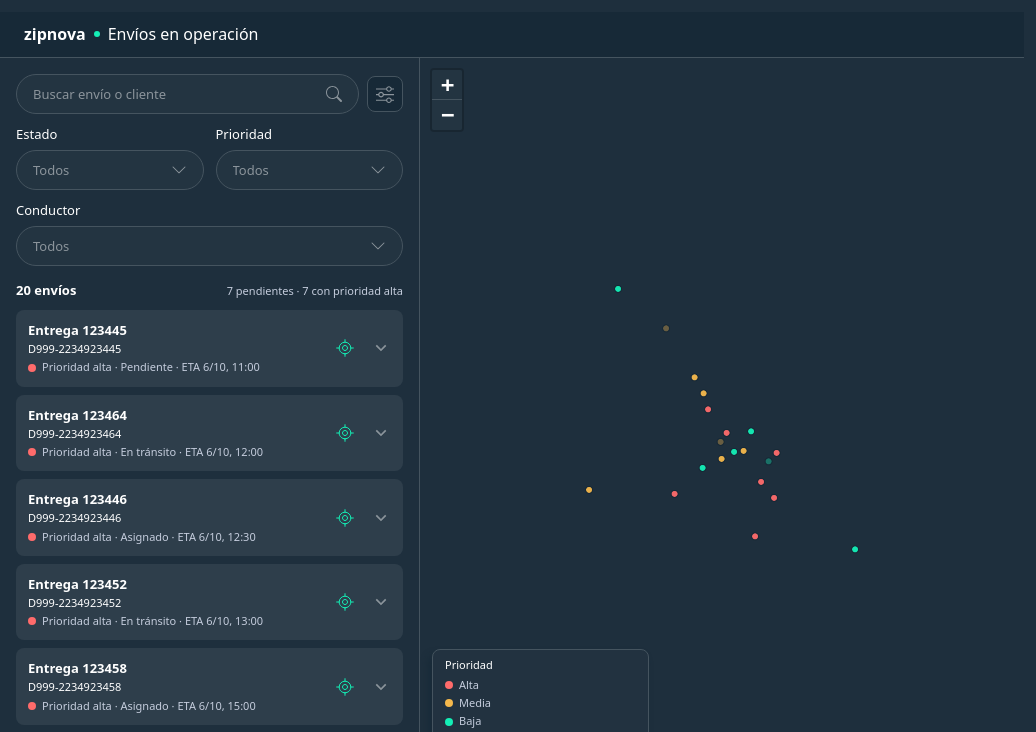
Test: App › filters by delivery date from the date picker
Click the button named "Más filtros".
click(385, 94)  # box [367,76,403,112]
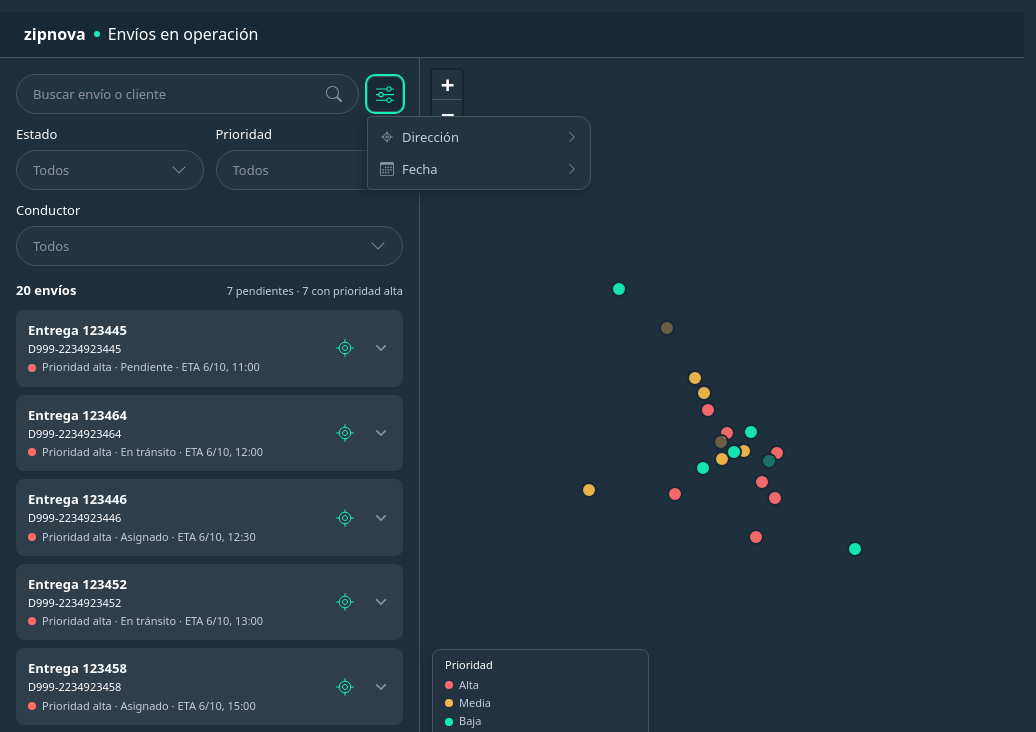
Click the menu item "Fecha".
click(479, 169)  # box [372,153,586,185]
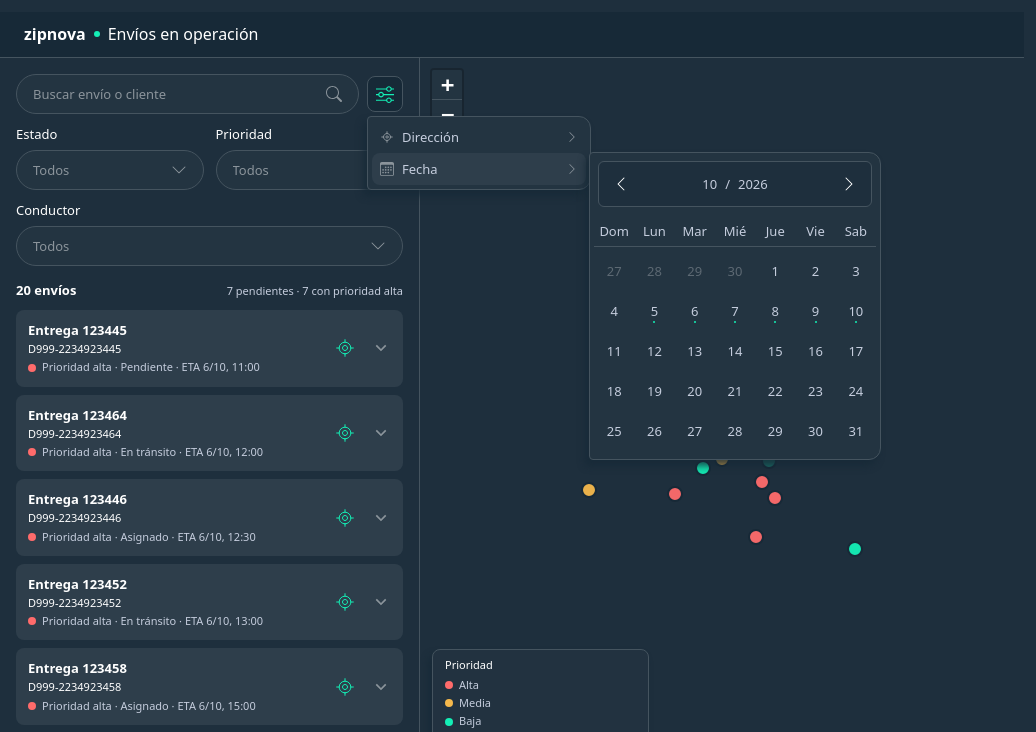
Click the button named "miércoles, 7 de octubre".
click(735, 311)  # box [719,295,751,327]
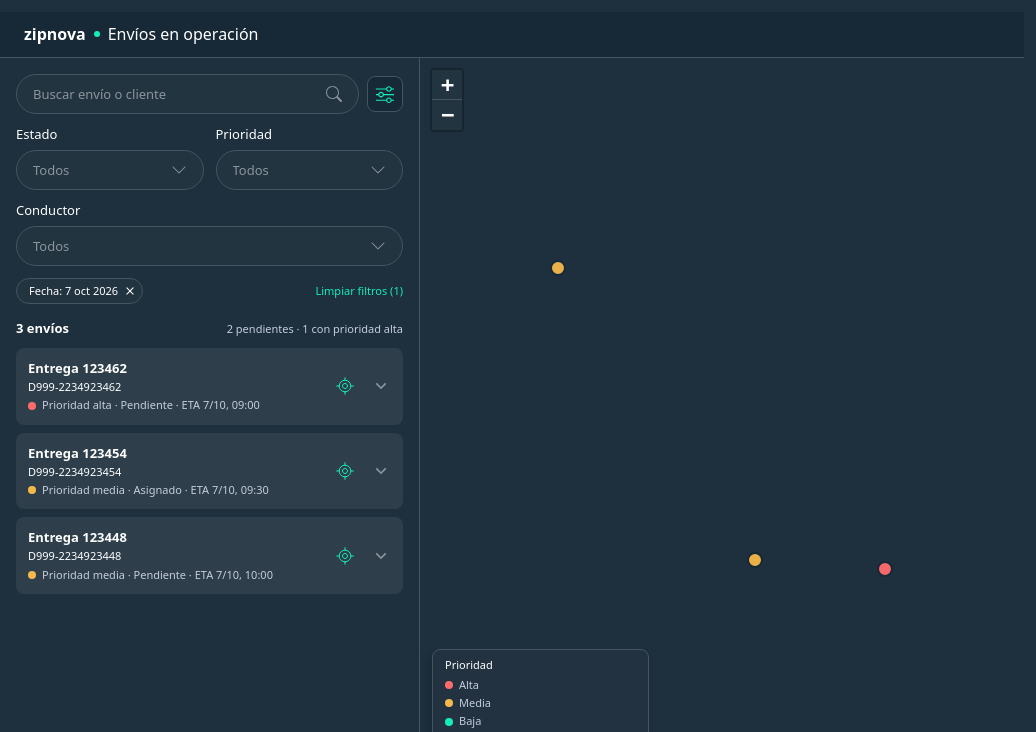
Expected: the text "Fecha: 7 oct 2026" is shown, [29,284,118,298]
